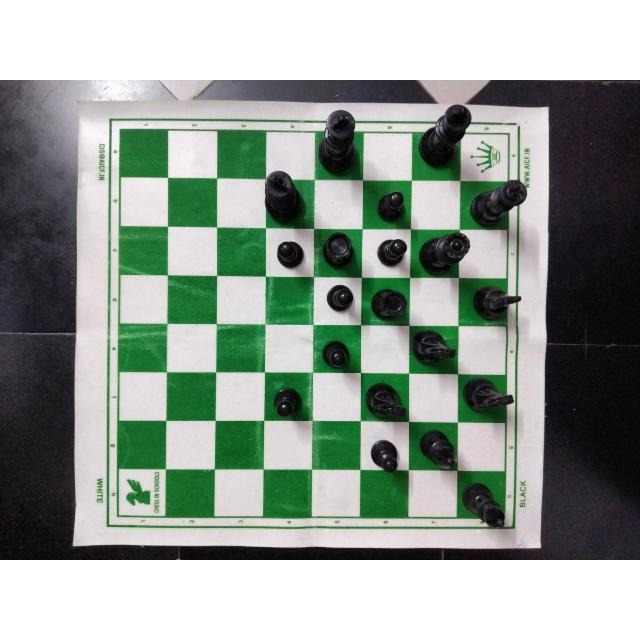black-bishop: (462, 480, 511, 530), (417, 426, 459, 471)
black-king: (416, 102, 472, 171), (316, 108, 364, 178), (467, 178, 529, 228), (264, 169, 308, 223)
black-knight: (459, 377, 516, 421), (469, 283, 523, 323), (362, 380, 412, 420), (409, 328, 457, 368)
black-pawn: (368, 436, 402, 475), (375, 235, 411, 270), (375, 190, 409, 226), (273, 236, 306, 272), (322, 282, 358, 313), (321, 337, 353, 370), (272, 385, 304, 418)
black-queen: (418, 231, 472, 277)
black-rook: (369, 288, 410, 324), (320, 231, 355, 271)
